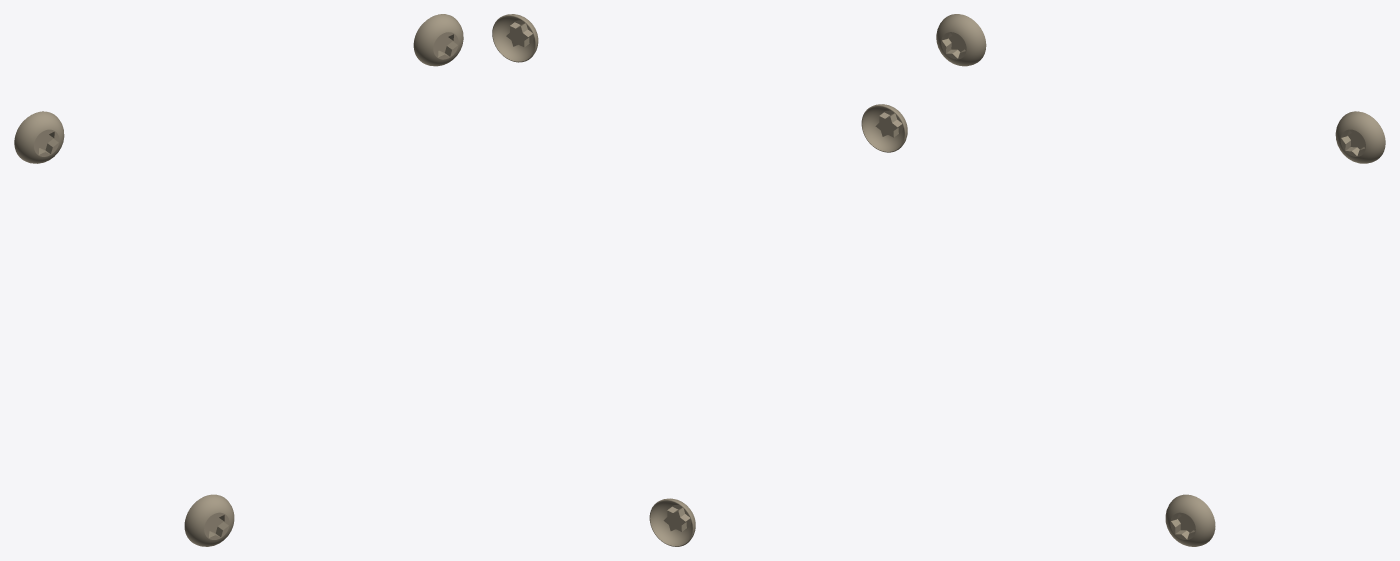
File: ur3e_scaled_9.obj
3 renders of one model, left to right at view 1: azimuth 30°, elevation 25°; view 2: azimuth 150°, elevation 25°; view 3: azimuth 330°, elevation 25°, orthographic. The views are drawn at different scales.
Bounding box in the file's own units: 0.0438 × 0.0471 × 0.0065.
